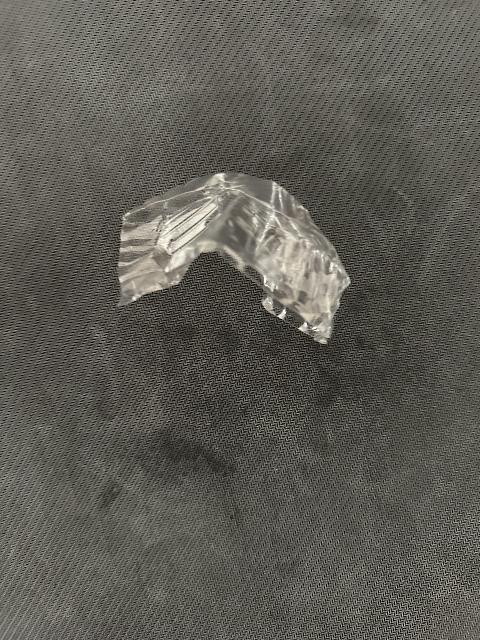Plastik: (114, 171, 349, 349)
